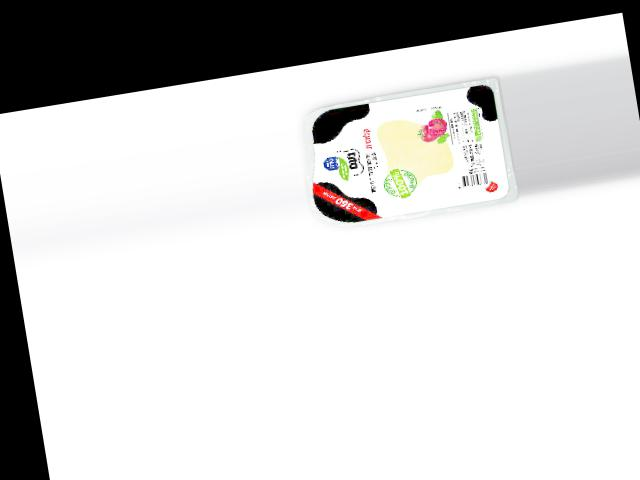cheese: (292, 76, 519, 234)
